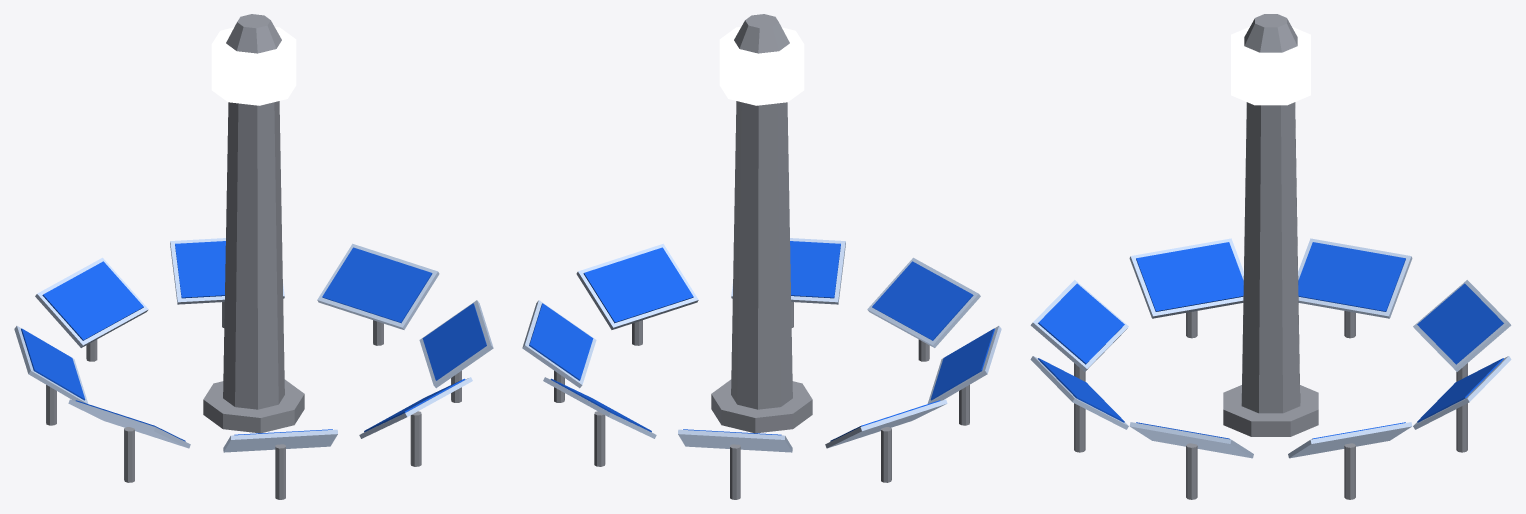
Rendered from Tour_Solaire.glb.
3 views of the same model, side by side, from view 1: azimuth 30°, elevation 25°; view 2: azimuth 150°, elevation 25°; view 3: azimuth 270°, elevation 25° (orthographic).
Visible parts, largest first — view 1: Tour_Solaire; view 2: Tour_Solaire; view 3: Tour_Solaire.
Part boxes in pixels (x1,y1,x2,y2): Tour_Solaire: (14, 14, 493, 499); Tour_Solaire: (522, 14, 1001, 499); Tour_Solaire: (1030, 14, 1511, 499).
Size of the model in its own units: 8.37 by 7.6 by 8.37.
